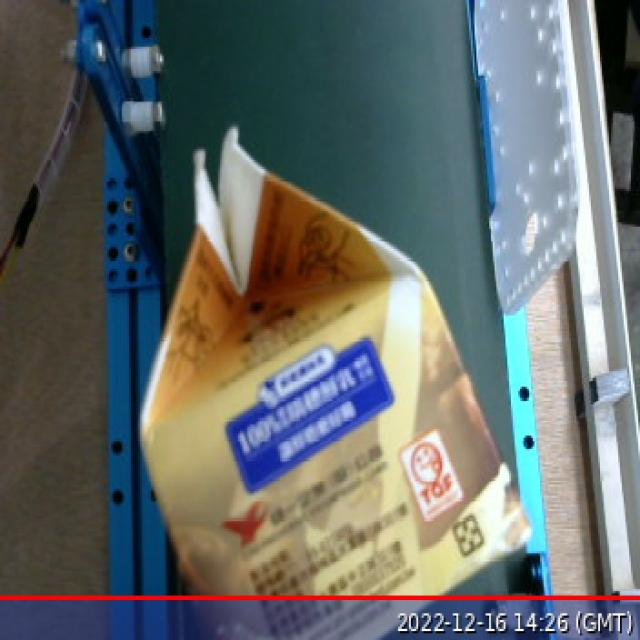non_white_jug: (103, 113, 556, 636)
